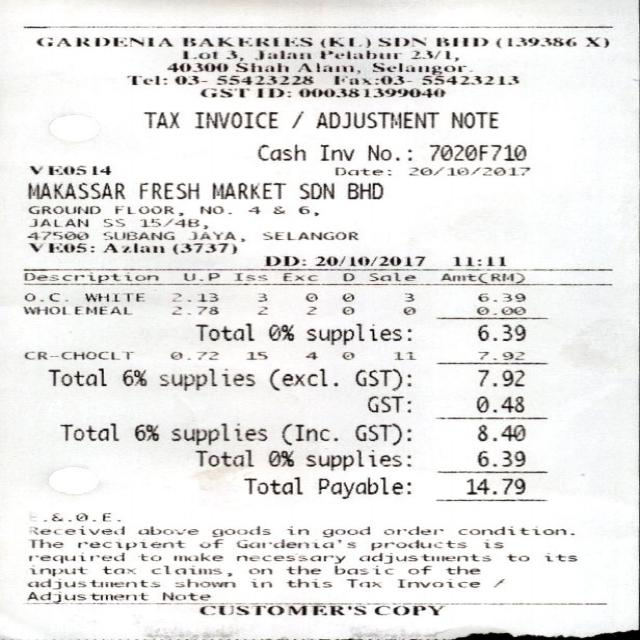text: (303, 322, 400, 345), (169, 422, 266, 445), (304, 449, 409, 470), (159, 367, 253, 390), (315, 111, 437, 128), (317, 476, 408, 498), (189, 604, 364, 615), (26, 181, 123, 199), (356, 551, 489, 563), (25, 577, 158, 589), (267, 367, 336, 390), (428, 144, 525, 160), (22, 272, 157, 283), (296, 88, 444, 98), (26, 590, 146, 602), (192, 111, 276, 128), (34, 36, 170, 46), (313, 254, 423, 266), (211, 181, 284, 199), (280, 422, 336, 445), (183, 36, 311, 46), (374, 60, 465, 74), (354, 422, 409, 445), (354, 368, 409, 390), (235, 538, 354, 548), (76, 539, 182, 550), (438, 270, 524, 283), (194, 322, 252, 341), (47, 367, 105, 386), (22, 350, 131, 360), (408, 166, 528, 175), (138, 181, 198, 199), (214, 73, 312, 84), (59, 422, 118, 440), (194, 448, 252, 466), (242, 476, 300, 494), (370, 539, 464, 550), (464, 477, 524, 494), (235, 554, 344, 563), (22, 305, 130, 314), (26, 552, 123, 562), (27, 524, 123, 534), (150, 564, 230, 576), (456, 526, 573, 534), (25, 511, 118, 521), (491, 36, 572, 47), (419, 75, 517, 84), (256, 142, 304, 160), (260, 231, 356, 240), (476, 323, 524, 341), (470, 395, 524, 411), (476, 423, 524, 441), (448, 111, 496, 128), (319, 49, 400, 59), (477, 368, 522, 386), (369, 604, 440, 615), (170, 242, 235, 254), (476, 450, 524, 466), (367, 394, 409, 412), (395, 578, 478, 587), (27, 204, 99, 214), (295, 62, 359, 73), (366, 144, 410, 160), (114, 205, 182, 215), (334, 75, 409, 84), (101, 242, 162, 253), (139, 218, 206, 228), (164, 62, 229, 72), (210, 525, 269, 536), (345, 181, 381, 199), (101, 230, 172, 239), (252, 49, 310, 60), (190, 230, 243, 242), (141, 111, 178, 128), (28, 164, 84, 175), (452, 254, 503, 266), (298, 182, 333, 199), (29, 565, 83, 576), (27, 217, 86, 227), (83, 292, 142, 302), (332, 564, 391, 574), (27, 243, 92, 252), (321, 525, 368, 537), (172, 578, 234, 587), (234, 62, 289, 72), (26, 230, 86, 239), (408, 50, 457, 61), (319, 144, 352, 160), (434, 36, 485, 46), (198, 88, 248, 98), (334, 166, 388, 175), (170, 292, 218, 302), (168, 350, 216, 360), (304, 350, 352, 360), (136, 526, 196, 534), (382, 526, 442, 534), (375, 37, 422, 47), (317, 36, 359, 47), (263, 256, 304, 267), (267, 323, 292, 341), (477, 350, 522, 360), (172, 552, 222, 561), (160, 591, 209, 600), (476, 292, 524, 301), (132, 423, 157, 440), (267, 450, 292, 466), (122, 368, 144, 386), (286, 578, 330, 587), (366, 272, 414, 280), (169, 306, 217, 314), (23, 292, 65, 301), (180, 49, 216, 59), (126, 75, 165, 84), (254, 88, 289, 98), (284, 564, 319, 574), (392, 348, 413, 364), (28, 538, 61, 548), (198, 204, 230, 214), (544, 551, 576, 561), (444, 565, 478, 574), (345, 578, 379, 587), (181, 272, 218, 280), (172, 75, 204, 84), (280, 272, 315, 280), (234, 272, 265, 281), (583, 36, 607, 47), (101, 566, 132, 574), (198, 538, 222, 548), (406, 564, 429, 574), (223, 49, 242, 61), (100, 217, 122, 227), (244, 350, 266, 360), (296, 206, 317, 216), (290, 110, 301, 128), (246, 566, 270, 574), (90, 164, 109, 174), (505, 553, 528, 561), (286, 526, 306, 534), (139, 552, 159, 560), (481, 541, 502, 548), (249, 581, 270, 587), (270, 205, 283, 214), (303, 292, 316, 301), (340, 292, 352, 301), (341, 272, 352, 281), (254, 292, 265, 301), (247, 205, 259, 213), (402, 306, 414, 314), (340, 306, 352, 314), (403, 292, 413, 301), (304, 306, 315, 314), (257, 306, 266, 314), (503, 306, 507, 307)
